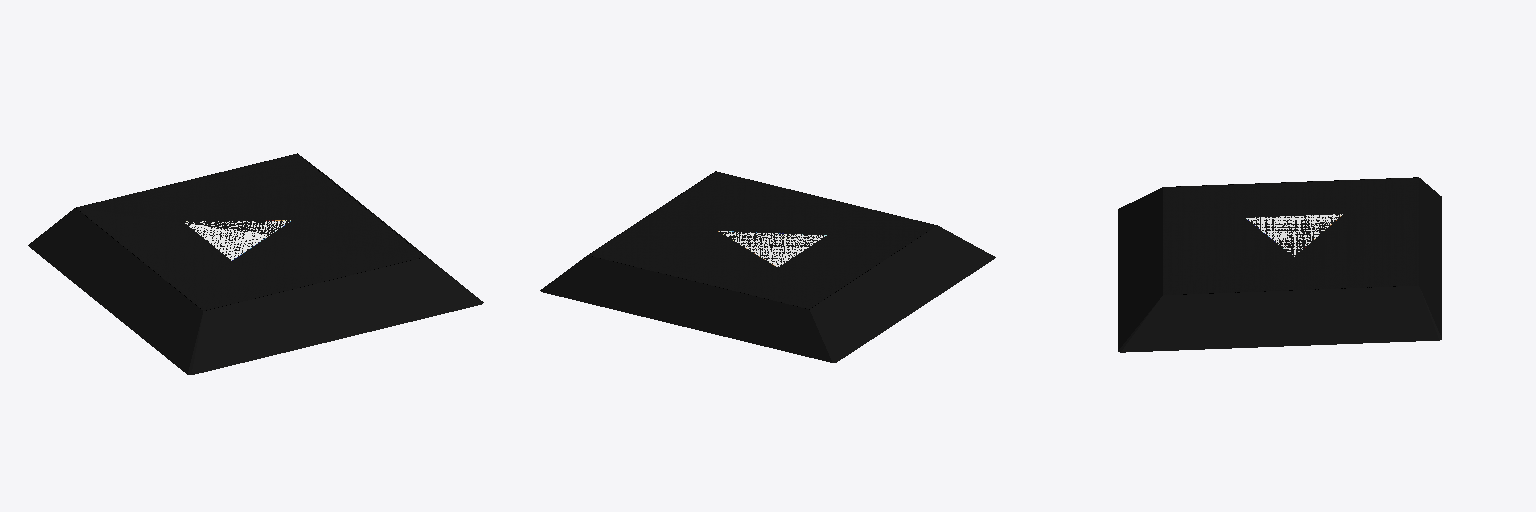
The picture shows the model from 3 angles: view 1: azimuth 30°, elevation 25°; view 2: azimuth 150°, elevation 25°; view 3: azimuth 270°, elevation 25°; orthographic projection.
Visible parts, largest first — view 1: Group91/mesh84/mesh84-geometry#mesh84-geometry; view 2: Group91/mesh84/mesh84-geometry#mesh84-geometry; view 3: Group91/mesh84/mesh84-geometry#mesh84-geometry.
Part boxes in pixels (x1,y1,x2,y2): Group91/mesh84/mesh84-geometry#mesh84-geometry: (28, 153, 483, 374); Group91/mesh84/mesh84-geometry#mesh84-geometry: (540, 171, 995, 362); Group91/mesh84/mesh84-geometry#mesh84-geometry: (1118, 177, 1441, 352).
Size of the model in its own units: 0.0754 by 0.0119 by 0.0715.
Materials: 2 (1 with a texture image).